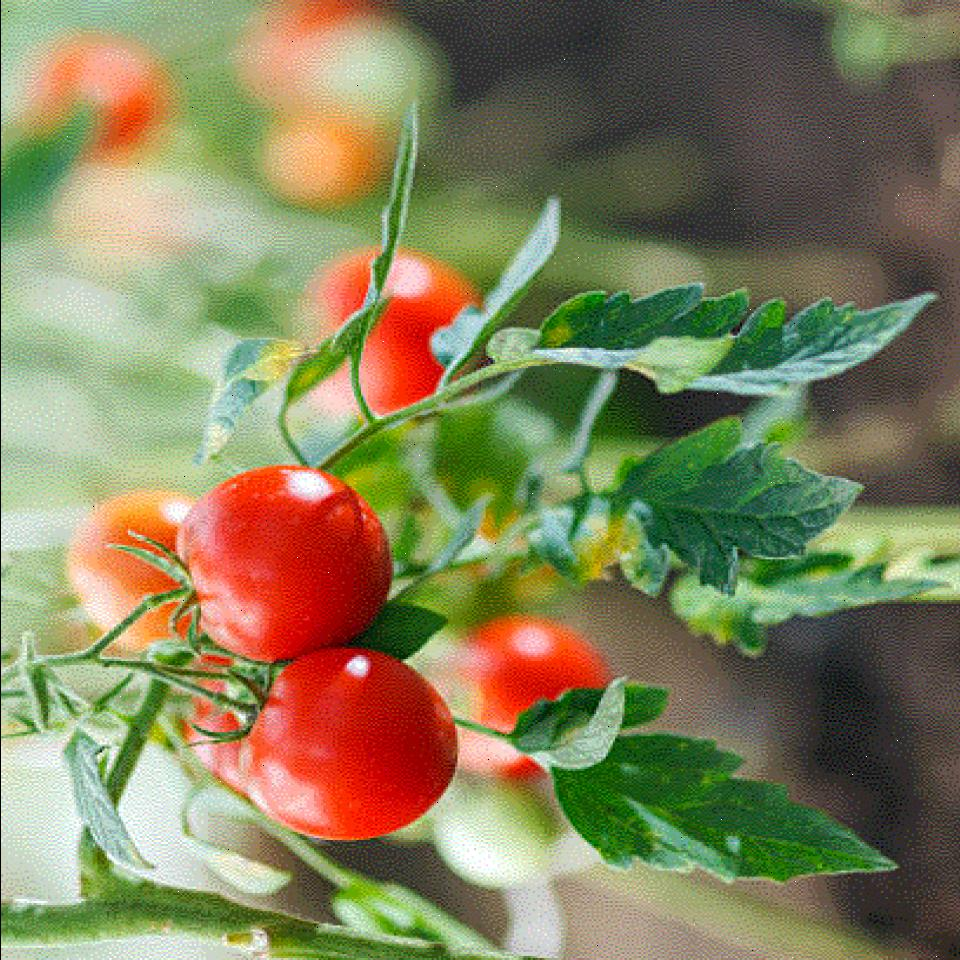Healthy: (239, 638, 442, 834), (186, 477, 386, 642), (282, 251, 478, 415), (453, 608, 613, 772), (66, 489, 188, 650), (28, 34, 174, 148), (162, 658, 244, 793)
